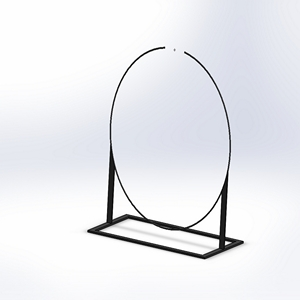circle: (85, 44, 245, 260)
